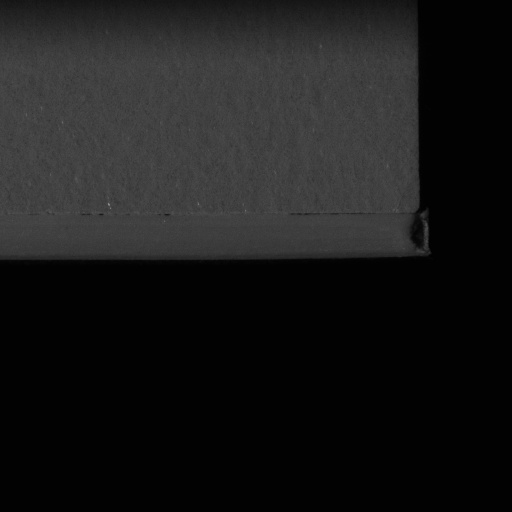bengque: (407, 208, 431, 257)
